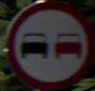No overtake: (4, 6, 89, 79)
